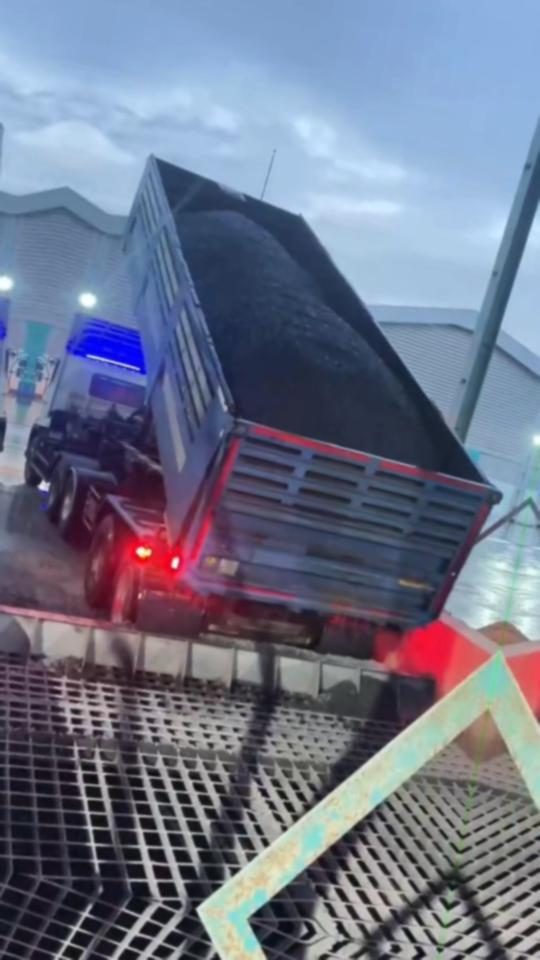gravel: (175, 210, 438, 468)
